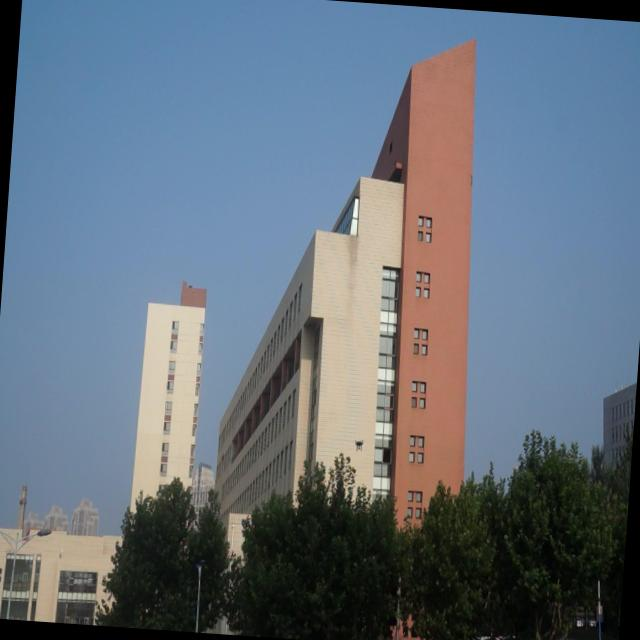drone: (352, 436, 367, 454)
